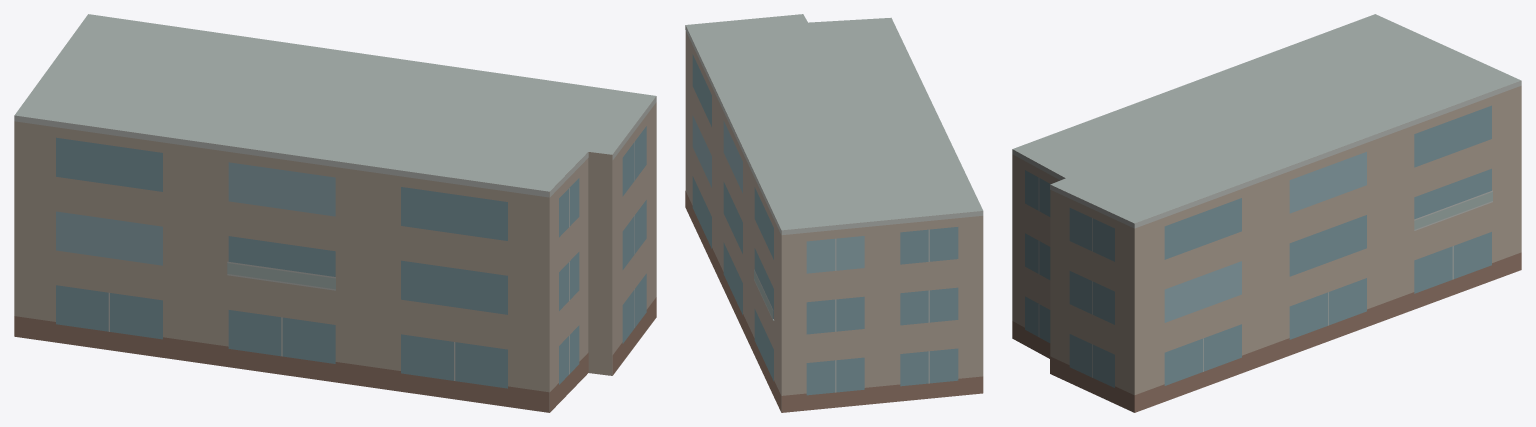
File: survey-upis-32760643.glb
3 views of the same model, side by side, from view 1: azimuth 30°, elevation 25°; view 2: azimuth 150°, elevation 25°; view 3: azimuth 270°, elevation 25° (orthographic). The views are drawn at different scales.
Parts seen in each view (by area): view 1: survey-upis-32760643.tmp; view 2: survey-upis-32760643.tmp; view 3: survey-upis-32760643.tmp.
Part boxes in pixels (bbox=[...]): survey-upis-32760643.tmp: bbox=[14, 14, 656, 412]; survey-upis-32760643.tmp: bbox=[685, 14, 983, 412]; survey-upis-32760643.tmp: bbox=[1012, 14, 1521, 412].
Bounding box in the file's own units: 21.72 × 9.15 × 22.31.
